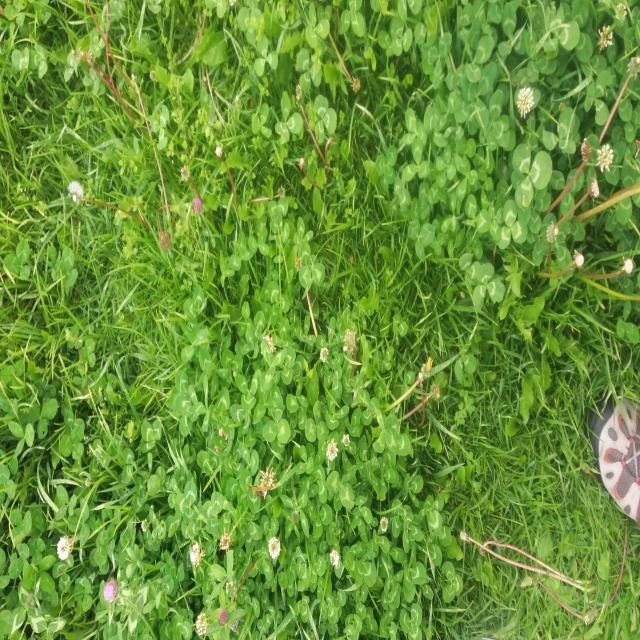Four Leaf Clover: (252, 374, 285, 425)
